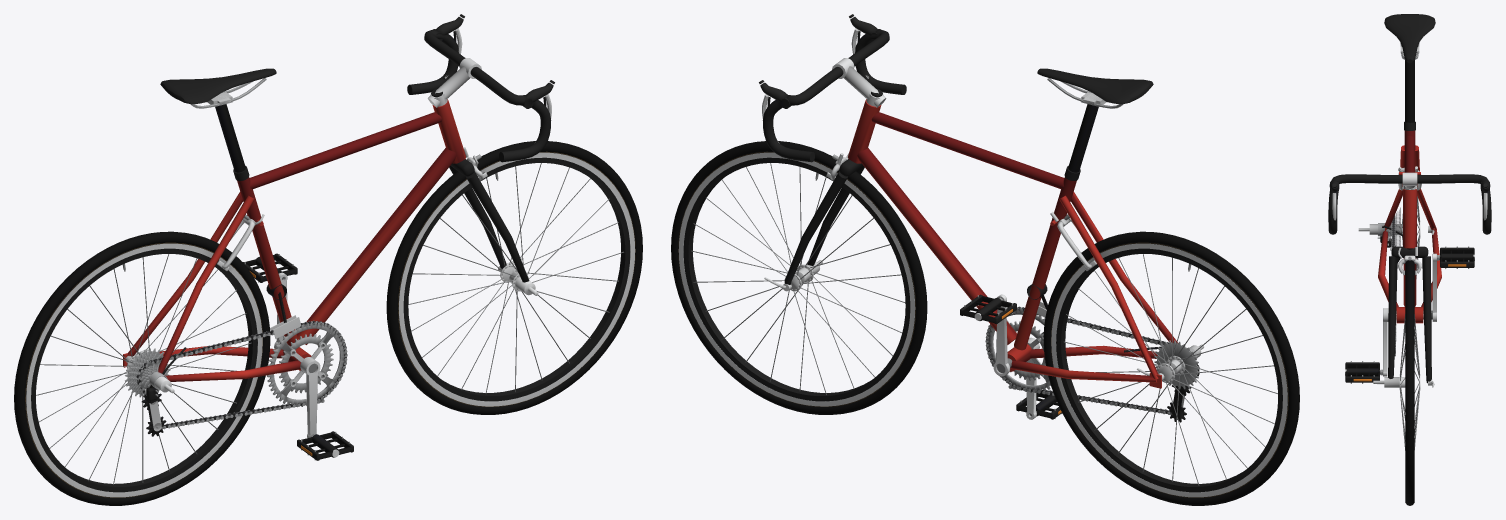
3 views of the same model, side by side, from view 1: azimuth 30°, elevation 25°; view 2: azimuth 150°, elevation 25°; view 3: azimuth 270°, elevation 25° (orthographic). The views are drawn at different scales.
Visible parts, largest first — view 1: frame, rear_wheel~rubber, front_wheel~rubber, front_wheel~black, rear_wheel~black, front_wheel, rear_wheel, front_wheel~steel, handlebar, rear_wheel~steel, chainring, fork (+9 smaller); view 2: frame, rear_wheel~rubber, front_wheel~rubber, front_wheel~black, rear_wheel~black, rear_wheel, front_wheel, front_wheel~steel, rear_wheel~steel, handlebar, fork, saddle (+8 smaller); view 3: frame, front_wheel~rubber, fork, handlebar, saddle, front_wheel~steel, pedal_l~black, pedal_r~black, seatpost, crank~alu, front_wheel, cassette (+5 smaller).
Part boxes in pixels (box(x1,y1,x2,y2)): frame: box(123, 99, 465, 381); rear_wheel~rubber: box(14, 231, 270, 505); front_wheel~rubber: box(386, 141, 642, 414); front_wheel~black: box(398, 152, 635, 406); rear_wheel~black: box(26, 243, 262, 497); front_wheel: box(398, 152, 635, 406); rear_wheel: box(26, 243, 262, 497); front_wheel~steel: box(408, 163, 623, 393); handlebar: box(407, 29, 551, 162); rear_wheel~steel: box(36, 254, 251, 484); chainring: box(267, 321, 344, 407); fork: box(431, 88, 529, 282); frame: box(848, 99, 1178, 388); rear_wheel~rubber: box(1043, 231, 1299, 505); front_wheel~rubber: box(671, 141, 927, 414); front_wheel~black: box(678, 152, 915, 406); rear_wheel~black: box(1051, 243, 1287, 497); rear_wheel: box(1051, 243, 1287, 497); front_wheel: box(678, 152, 915, 406); front_wheel~steel: box(691, 163, 905, 394); rear_wheel~steel: box(1064, 254, 1277, 485); handlebar: box(762, 29, 906, 162); fork: box(784, 88, 882, 284); saddle: box(1037, 68, 1153, 104); frame: box(1378, 130, 1441, 323); front_wheel~rubber: box(1405, 260, 1414, 505); fork: box(1388, 189, 1431, 383); handlebar: box(1328, 174, 1491, 234); saddle: box(1384, 14, 1435, 63); front_wheel~steel: box(1400, 314, 1419, 450); pedal_l~black: box(1440, 247, 1474, 267); pedal_r~black: box(1345, 362, 1379, 382); seatpost: box(1405, 60, 1414, 122); crank~alu: box(1383, 253, 1436, 376); front_wheel: box(1373, 374, 1434, 389); cassette: box(1378, 207, 1400, 246).
Size of the model in its own units: 1.66 by 1.02 by 0.4447.
